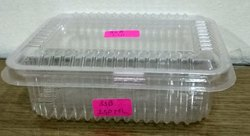PlasticBox: (1, 6, 239, 126)
